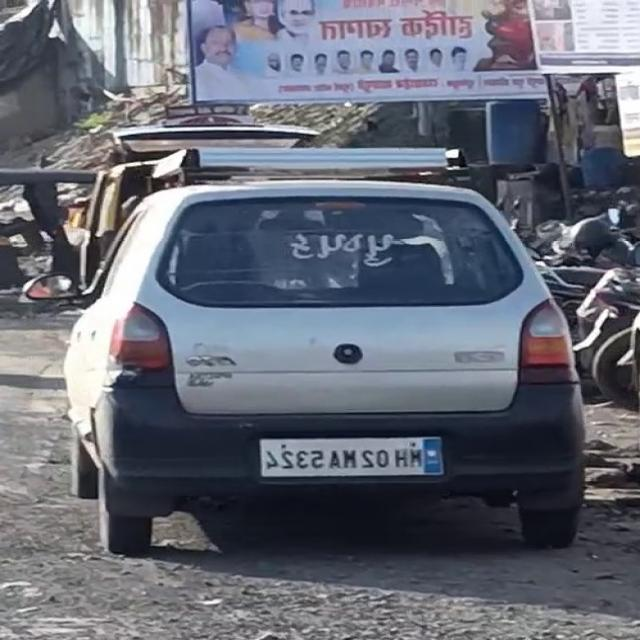license_plate: (255, 428, 456, 488)
